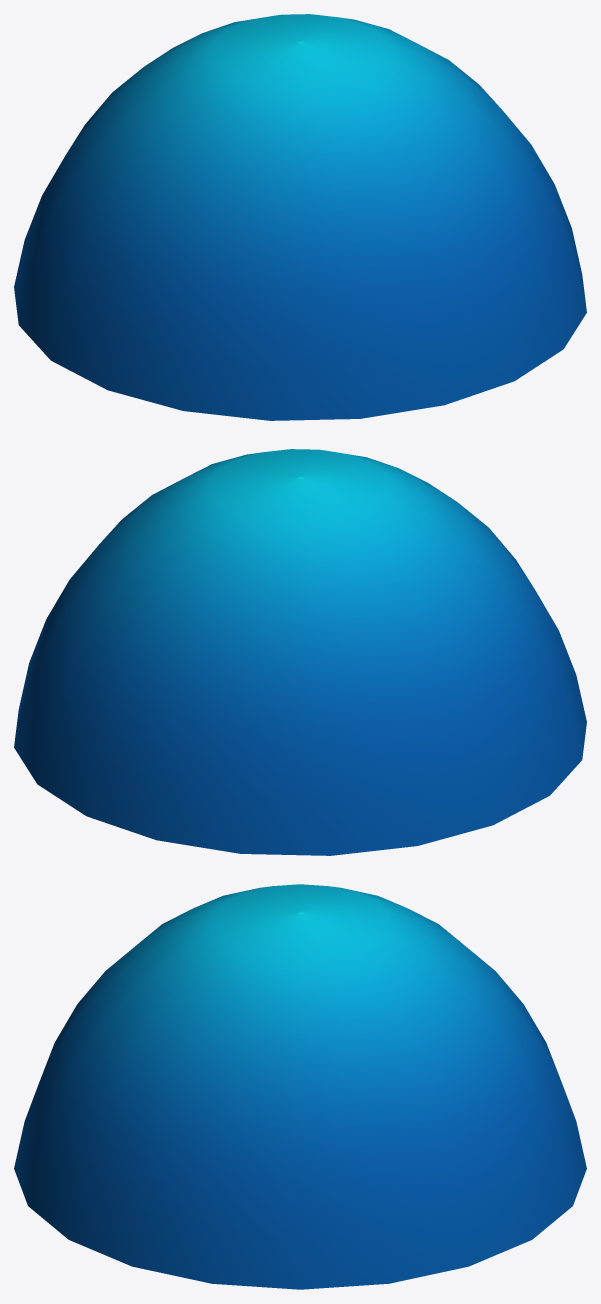
The model's file is roup.fbx.
The picture shows the model from 3 angles, top to bottom: view 1: azimuth 30°, elevation 25°; view 2: azimuth 150°, elevation 25°; view 3: azimuth 270°, elevation 25°; orthographic projection.
Parts seen in each view (by area): view 1: pSphere1; view 2: pSphere1; view 3: pSphere1.
Boxes of the visible parts, x1,y1,x2,y2 form: pSphere1: [14, 14, 586, 420]; pSphere1: [14, 449, 586, 855]; pSphere1: [14, 884, 586, 1289].
Size of the model in its own units: 32.27 by 15.91 by 32.27.
